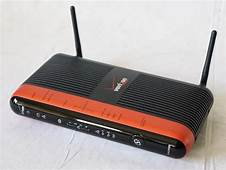Verizon Router: (6, 3, 219, 161)
